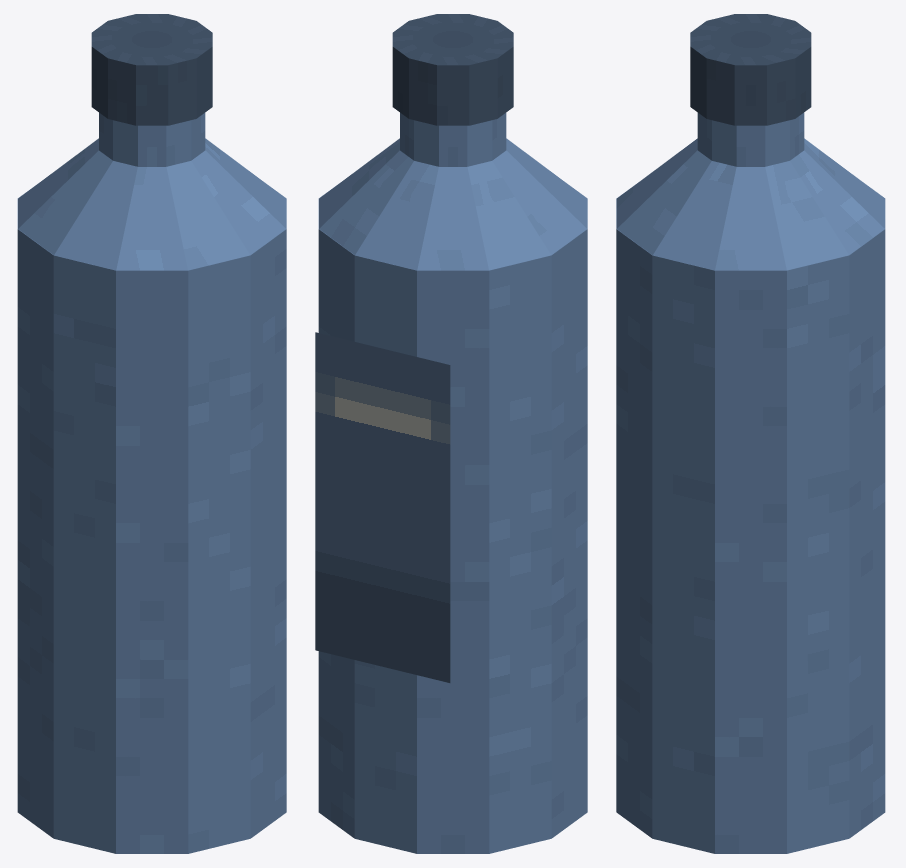
Rendered from bottle_plastic_tiny_glue.glb.
The picture shows the model from 3 angles, left to right: view 1: azimuth 30°, elevation 25°; view 2: azimuth 150°, elevation 25°; view 3: azimuth 270°, elevation 25°; orthographic projection.
Visible parts, largest first — view 1: block_bottle body, block_shoulder, block_nozzle cap, block_neck; view 2: block_bottle body, block_label, block_shoulder, block_nozzle cap, block_neck; view 3: block_bottle body, block_shoulder, block_nozzle cap, block_neck.
Boxes of the visible parts, left/top/right/bottom form: block_bottle body: left=17, top=185, right=286, bottom=853; block_shoulder: left=18, top=138, right=286, bottom=270; block_nozzle cap: left=91, top=14, right=212, bottom=125; block_neck: left=99, top=112, right=205, bottom=166; block_bottle body: left=318, top=185, right=587, bottom=853; block_label: left=315, top=332, right=450, bottom=682; block_shoulder: left=319, top=138, right=587, bottom=270; block_nozzle cap: left=392, top=14, right=513, bottom=125; block_neck: left=400, top=112, right=506, bottom=166; block_bottle body: left=616, top=186, right=885, bottom=853; block_shoulder: left=616, top=138, right=884, bottom=270; block_nozzle cap: left=690, top=14, right=811, bottom=125; block_neck: left=697, top=112, right=804, bottom=166.
Bounding box in the file's own units: 0.0386 × 0.12 × 0.0395.
1 material, 1 textured.
